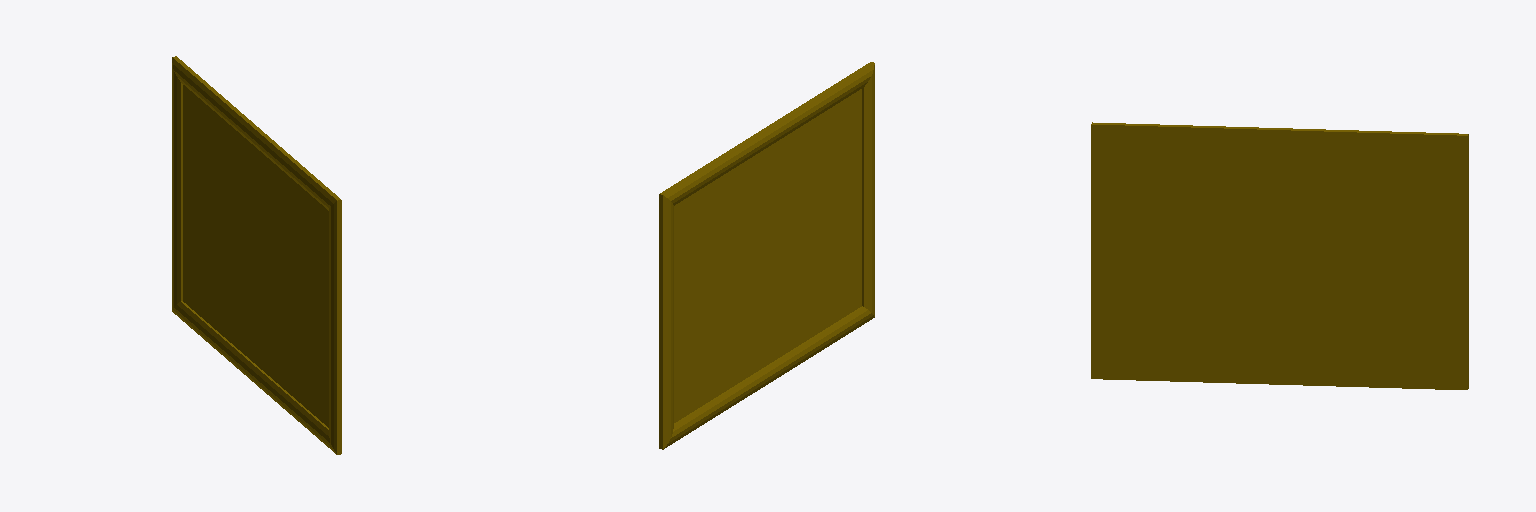
Rendered from cuadro1.obj.
3 views of the same model, side by side, from view 1: azimuth 30°, elevation 25°; view 2: azimuth 150°, elevation 25°; view 3: azimuth 270°, elevation 25° (orthographic).
Visible parts, largest first — view 1: october_painting1; view 2: october_painting1; view 3: october_painting1.
Part boxes in pixels (x1,y1,x2,y2): october_painting1: (172, 56, 341, 454); october_painting1: (659, 62, 874, 449); october_painting1: (1091, 122, 1468, 389).
Bounding box in the file's own units: 0.07 × 0.58 × 0.7787.